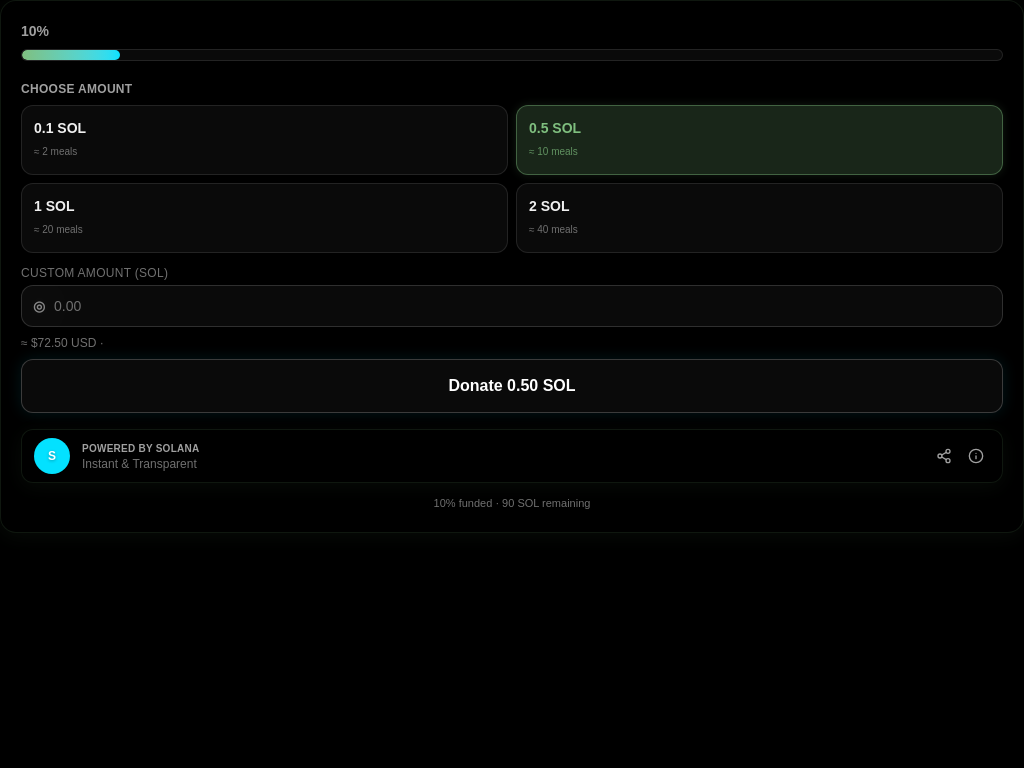
it: DonationPanel › shows error for amount below minimum
Type "0.01" into the field with placeholder "0.00" at (512, 306), box [21,285,1003,327]
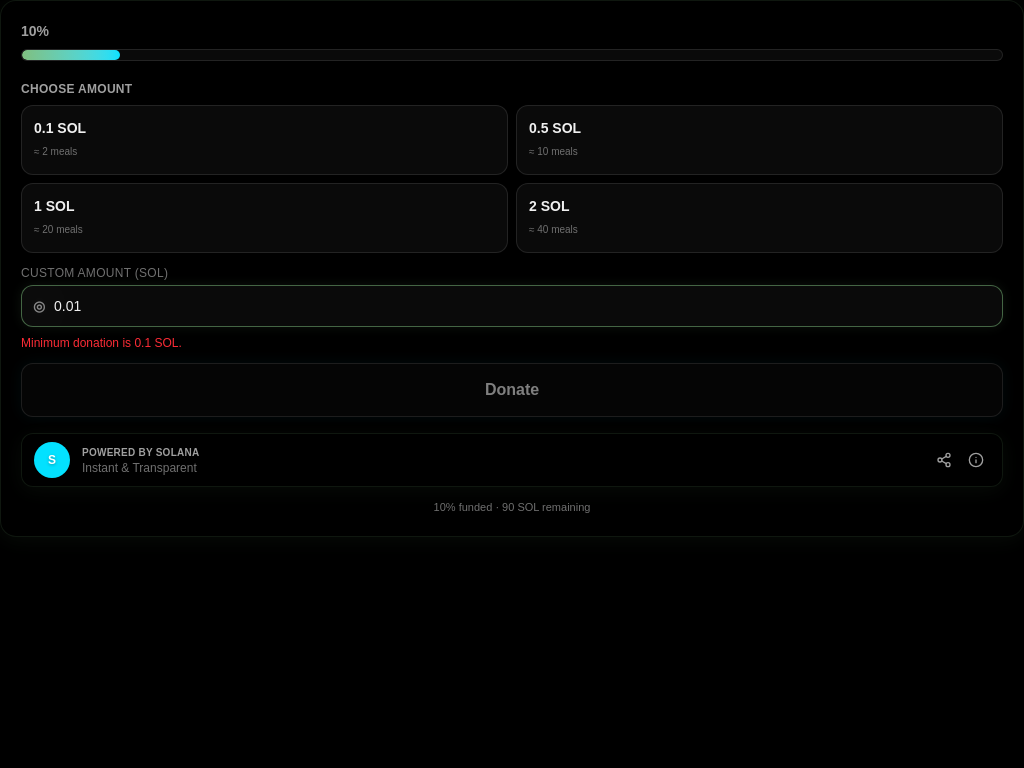
Expected: the text "Minimum donation is 0.1 SOL." is shown, [21,336,182,350]
